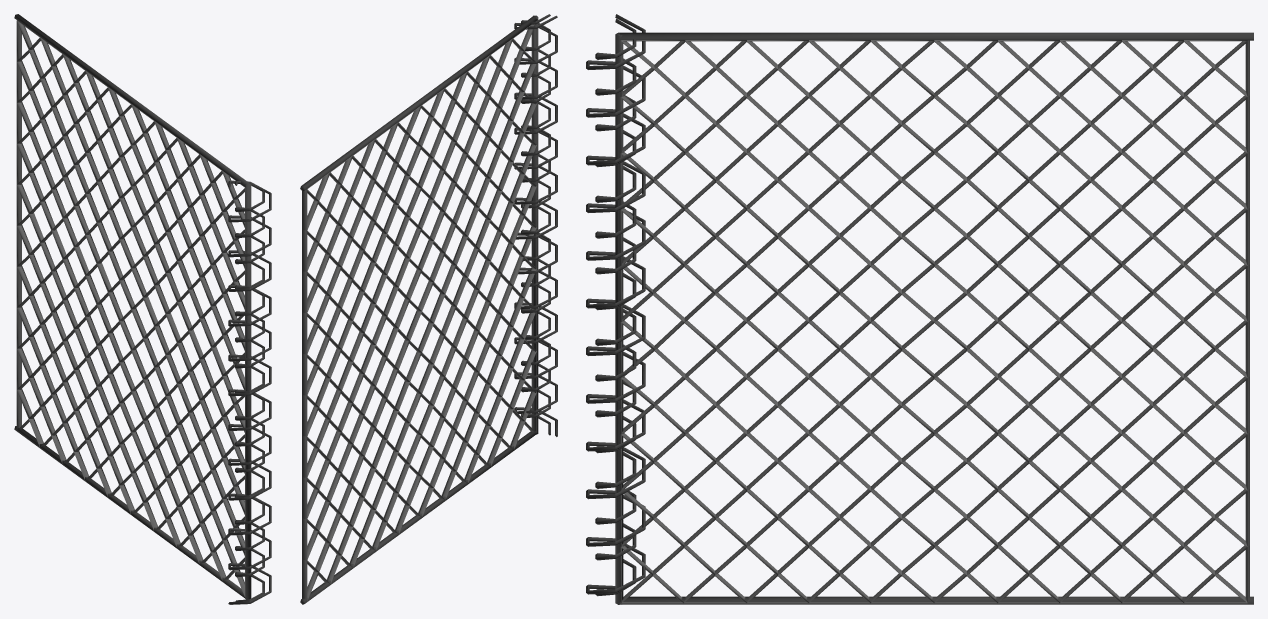
File: chainlink_right.fbx
3 views of the same model, side by side, from view 1: azimuth 30°, elevation 25°; view 2: azimuth 150°, elevation 25°; view 3: azimuth 270°, elevation 25° (orthographic). The views are drawn at different scales.
Parts seen in each view (by area): view 1: Plane01_None, Spring01_None, Spring02_None, Cylinder02_None, Cylinder01_None, Cylinder03_None; view 2: Plane01_None, Spring01_None, Spring02_None, Cylinder02_None, Cylinder01_None, Cylinder03_None; view 3: Plane01_None, Spring01_None, Cylinder03_None, Cylinder01_None, Spring02_None, Cylinder02_None.
Part boxes in pixels (x1,y1,x2,y2): Plane01_None: [16, 20, 245, 597]; Spring01_None: [228, 180, 271, 604]; Spring02_None: [235, 181, 264, 601]; Cylinder02_None: [245, 183, 251, 599]; Cylinder01_None: [14, 14, 249, 187]; Cylinder03_None: [14, 426, 245, 598]; Plane01_None: [302, 24, 536, 600]; Spring01_None: [514, 15, 557, 436]; Spring02_None: [521, 14, 550, 435]; Cylinder02_None: [532, 15, 538, 434]; Cylinder01_None: [300, 16, 537, 191]; Cylinder03_None: [300, 431, 537, 604]; Plane01_None: [620, 40, 1249, 603]; Spring01_None: [586, 14, 645, 594]; Cylinder03_None: [619, 596, 1253, 604]; Cylinder01_None: [619, 32, 1253, 40]; Spring02_None: [595, 18, 636, 596]; Cylinder02_None: [615, 32, 623, 604].
Size of the model in its own units: 7.33 by 67.89 by 71.16.
2 materials, 2 textured.
